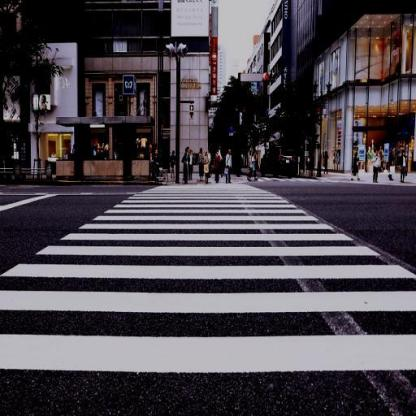crosswalk: (1, 286, 416, 392), (30, 228, 385, 260), (100, 204, 308, 216)
